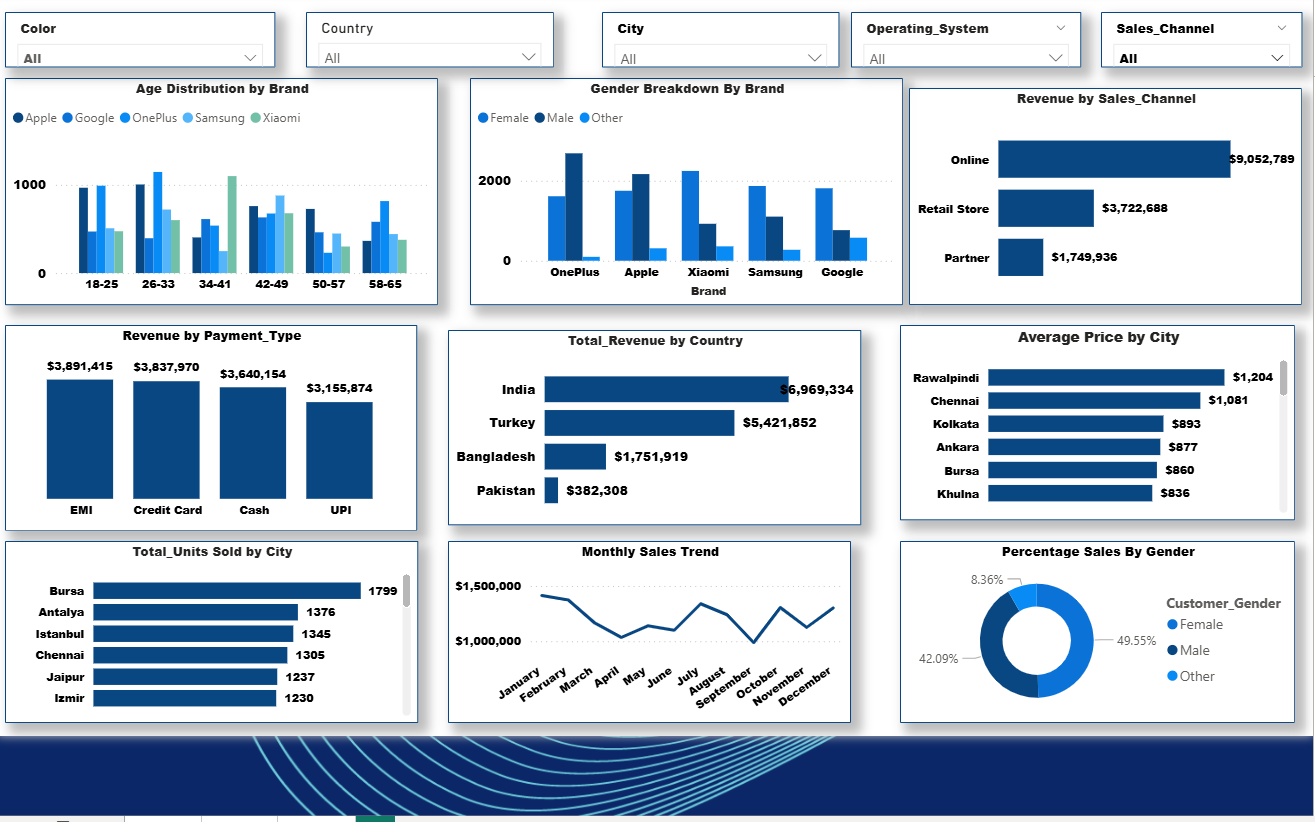

Layout of this report page (visuals, bound fields, positions):
{"tool":"powerbi","page":{"name":"Page 3","canvas":[1280,720],"ordinal":2},"visuals":[{"type":"clusteredColumnChart","title":"Age  Distribution  by Brand","fields":{"Category":["Sales_Data.Customer_Age_Group"],"Series":["Sales_Data.Brand"],"Y":["Measure.Total_Units Sold"]},"box":[7.8,79.8,421.2,220.8],"z":0},{"type":"clusteredColumnChart","title":"Gender Breakdown By Brand","fields":{"Category":["Sales_Data.Brand"],"Y":["Measure.Total_Units Sold"],"Series":["Sales_Data.Customer_Gender"]},"box":[460.1,79.8,421.2,220.8],"z":1000},{"type":"slicer","fields":{"Values":["Sales_Data.Color"]},"box":[7.8,15.6,262.6,54.5],"z":2000},{"type":"slicer","fields":{"Values":["Sales_Data.Country"]},"box":[300.5,15.6,241.2,54.5],"z":3000},{"type":"slicer","fields":{"Values":["Sales_Data.City"]},"box":[588.4,15.6,231.5,54.5],"z":4000},{"type":"slicer","fields":{"Values":["Sales_Data.Operating_System"]},"box":[830.6,15.6,223.7,54.5],"z":5000},{"type":"slicer","fields":{"Values":["Sales_Data.Sales_Channel"]},"box":[1073.8,15.6,195.5,54.5],"z":6000},{"type":"barChart","title":"Revenue by Sales_Channel","fields":{"Category":["Sales_Data.Sales_Channel"],"Y":["Measure.Total_Revenue"]},"box":[887.1,89.5,382.2,211.1],"z":7000},{"type":"columnChart","title":"Revenue by Payment_Type","fields":{"Category":["Sales_Data.Payment_Type"],"Y":["Measure.Total_Revenue"]},"box":[7.8,320,400.7,200.4],"z":8000},{"type":"barChart","fields":{"Y":["Measure.Total_Revenue"],"Category":["Locations.Country"]},"box":[438.7,324.9,401.7,189.7],"z":9000},{"type":"barChart","fields":{"Category":["Locations.City"],"Y":["Measure.Average  Price"]},"box":[878.3,320,384.2,189.7],"z":10000},{"type":"barChart","fields":{"Y":["Measure.Total_Units Sold"],"Category":["Locations.City"]},"box":[7.8,530.1,401.7,177],"z":11000},{"type":"lineChart","title":"Monthly  Sales Trend","fields":{"Y":["Measure.Total_Revenue"],"Category":["Sales_Data.Month Name"]},"box":[438.7,530.1,392,177],"z":12000},{"type":"donutChart","title":"Percentage Sales  By Gender","fields":{"Category":["Sales_Data.Customer_Gender"],"Y":["Measure.Total_Revenue"]},"box":[878,530,384,177],"z":13000}]}

Visuals, with their boxes on the page's 1280x720 design canvas (x1, y1, x2, y2). These are canvas units, not pixel positions in the 1315x822 screenshot, which may show the page scaled, cropped or inside an application window:
"Age  Distribution  by Brand" clusteredColumnChart: 8/80/429/301
"Gender Breakdown By Brand" clusteredColumnChart: 460/80/881/301
slicer - Sales_Data.Color: 8/16/270/70
slicer - Sales_Data.Country: 300/16/542/70
slicer - Sales_Data.City: 588/16/820/70
slicer - Sales_Data.Operating_System: 831/16/1054/70
slicer - Sales_Data.Sales_Channel: 1074/16/1269/70
"Revenue by Sales_Channel" barChart: 887/90/1269/301
"Revenue by Payment_Type" columnChart: 8/320/408/520
barChart - Measure.Total_Revenue x Locations.Country: 439/325/840/515
barChart - Locations.City x Measure.Average  Price: 878/320/1262/510
barChart - Measure.Total_Units Sold x Locations.City: 8/530/410/707
"Monthly  Sales Trend" lineChart: 439/530/831/707
"Percentage Sales  By Gender" donutChart: 878/530/1262/707
